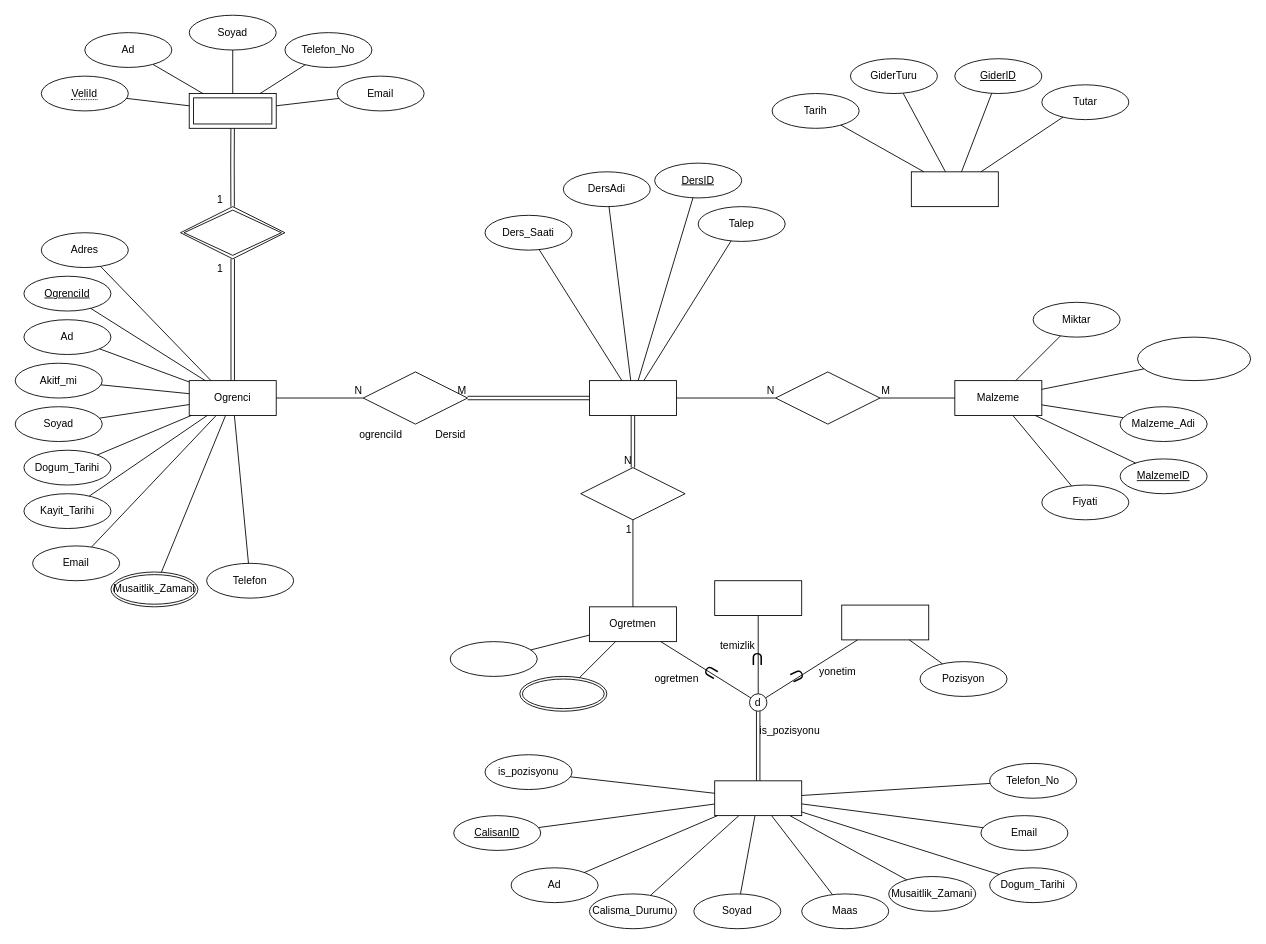
Image size: 1266x944. Some labels were removed from this diagram. The shapes that lost their labels are listed below. From the top down, each one's centre as x and y in pixels, then its label:
point 232,110: Veli
point 954,189: Gider
point 232,232: Velisidir
point 1194,358: Minimum_Stok_Miktari
point 415,397: Alir
point 632,397: Ders
point 827,397: Kullanir
point 632,493: Verir
point 758,598: Temizlik Gorevlisi
point 885,622: Idari Personel
point 493,658: Alani
point 563,693: MusatilikZamani
point 758,798: Calisan
